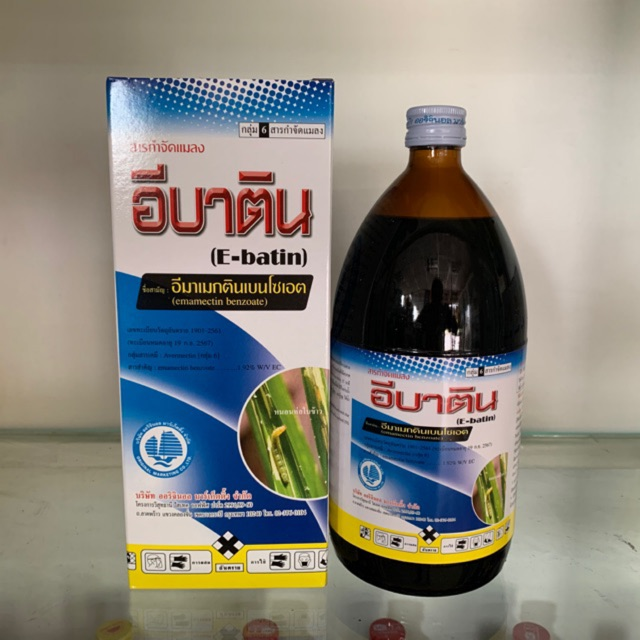Insecticide: (317, 98, 535, 606)
